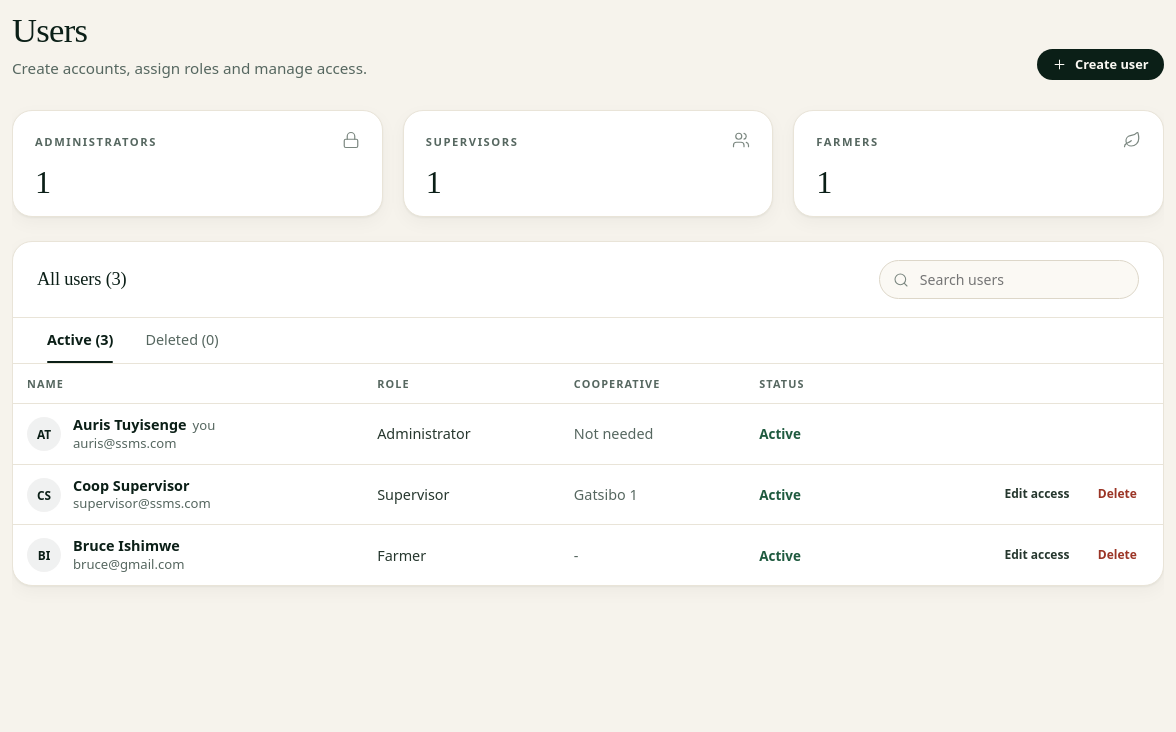
Test: Users page › says so when nobody has been deleted
This screenshot has width=1176, height=732.
Check: the text "Bruce Ishimwe" is shown, box x1=73 y1=538 x2=184 y2=556
Click the tab "Deleted (0)" at (182, 340), box x1=131 y1=318 x2=233 y2=363
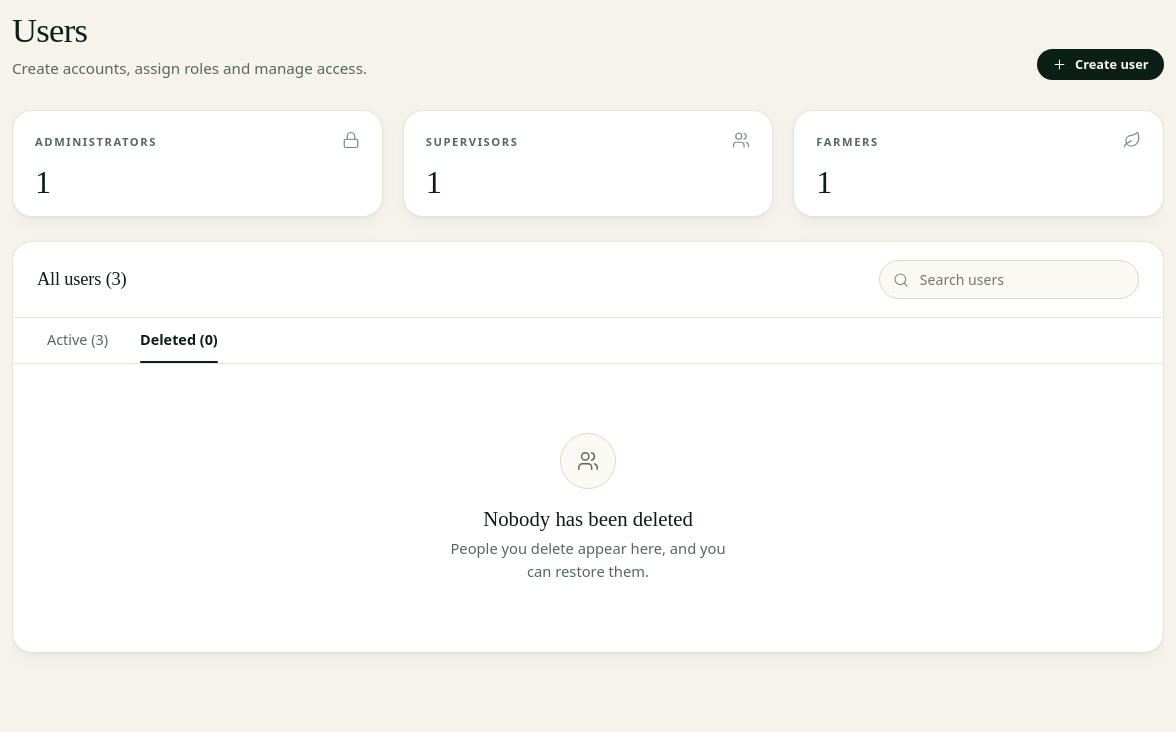
Check: the heading "Nobody has been deleted" is shown, box x1=483 y1=507 x2=693 y2=531
